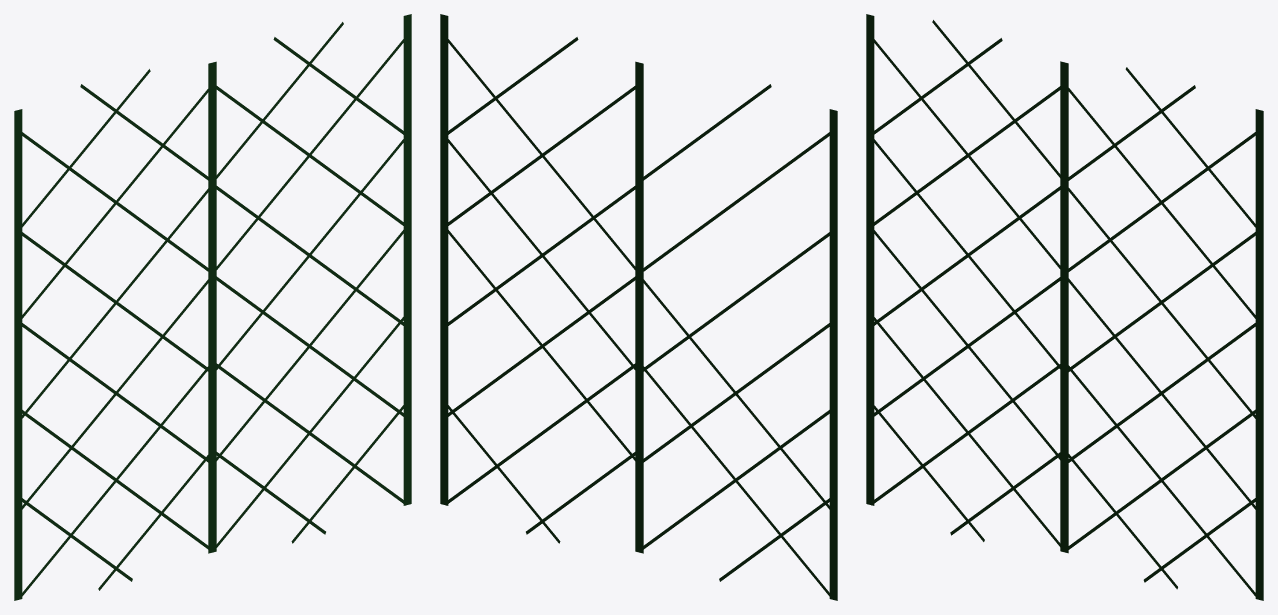
Rendered from IronFence.fbx.
The picture shows the model from 3 angles, left to right: view 1: azimuth 30°, elevation 25°; view 2: azimuth 150°, elevation 25°; view 3: azimuth 330°, elevation 25°; orthographic projection.
Visible parts, largest first — view 1: 평면.004; view 2: 평면.004; view 3: 평면.004.
Boxes of the visible parts, <box> form: 평면.004: <box>14,14,411,600</box>; 평면.004: <box>440,14,837,600</box>; 평면.004: <box>866,14,1263,600</box>.
Bounding box in the file's own units: 410 × 505 × 6.8e-05.
